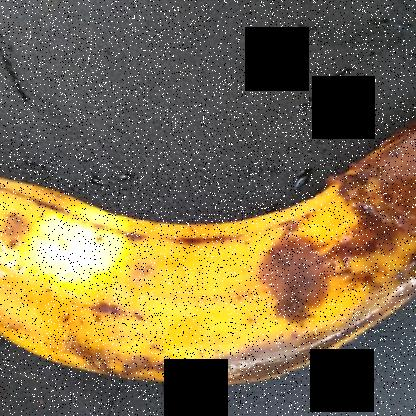rotten: (10, 83, 416, 395)
